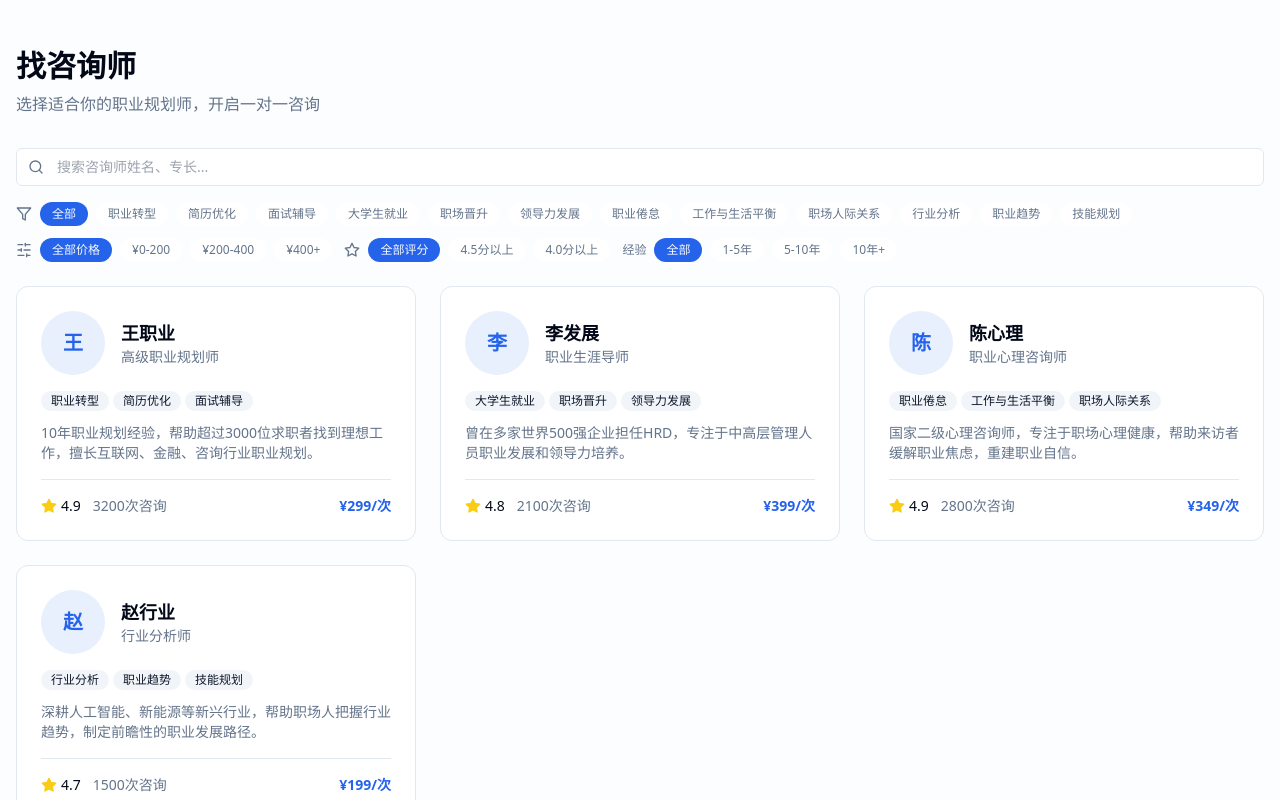
Scenario: Counselors Page › filters counselors by price range
Click the button "¥0-200" at (151, 250), box [120,238,182,262]
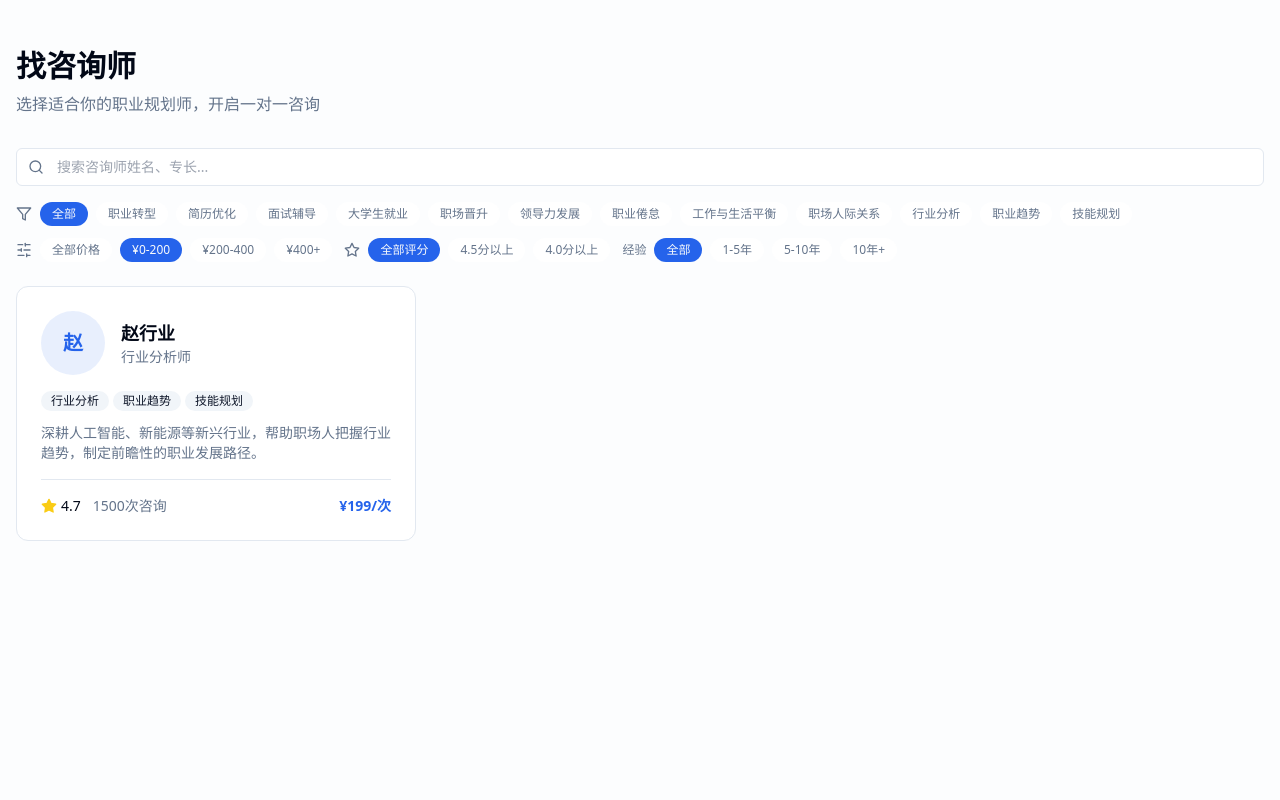
Check: the link "¥299/次" is gone
Check: the link "¥399/次" is gone
